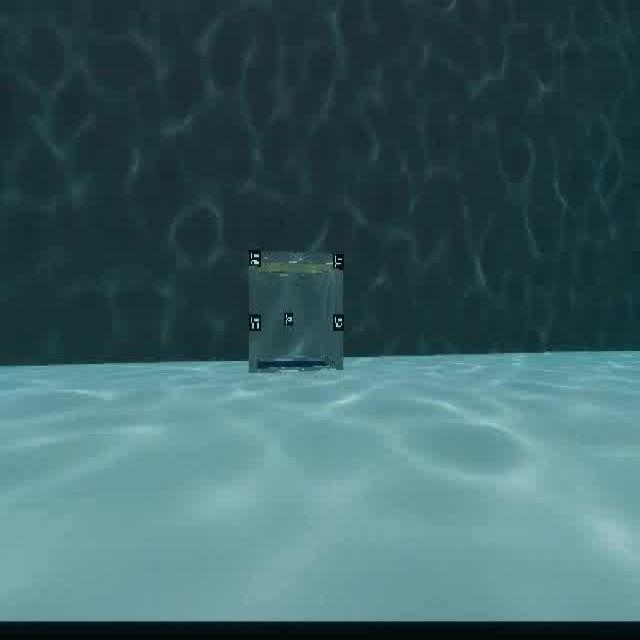Docking Station: (246, 245, 350, 376)
